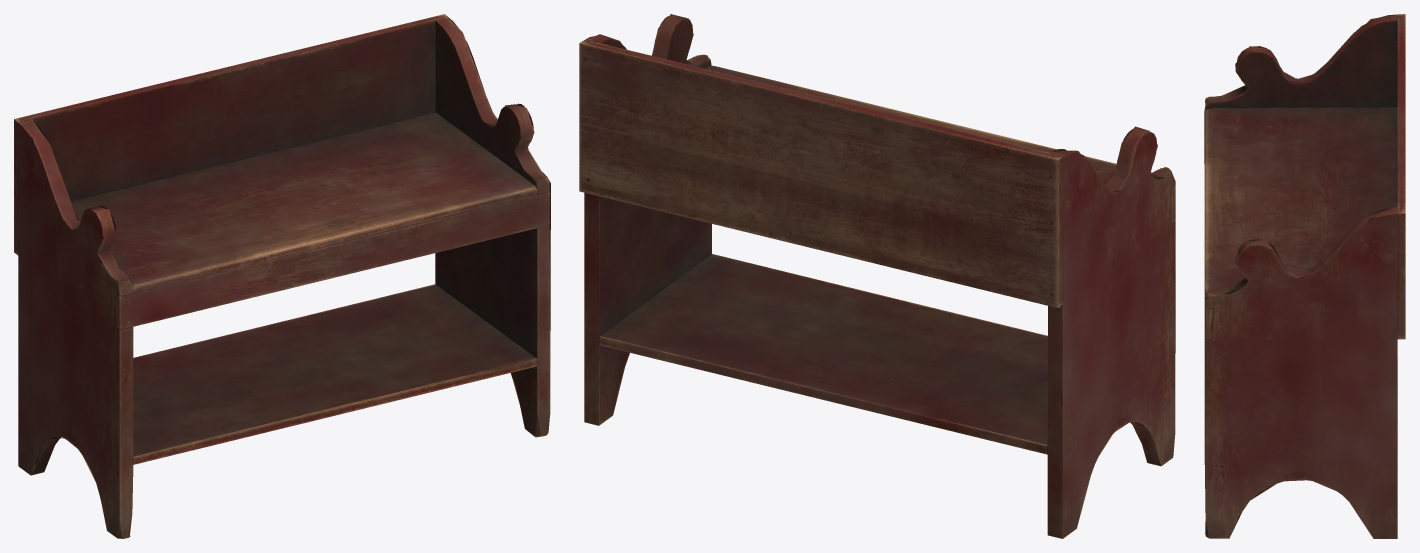
File: painted_wooden_bench.glb
3 renders of one model, left to right at view 1: azimuth 30°, elevation 25°; view 2: azimuth 150°, elevation 25°; view 3: azimuth 270°, elevation 25°, orthographic. The views are drawn at different scales.
Parts seen in each view (by area): view 1: painted_wooden_bench; view 2: painted_wooden_bench; view 3: painted_wooden_bench.
Boxes of the visible parts, <box> form: painted_wooden_bench: <box>14,14,550,538</box>; painted_wooden_bench: <box>579,14,1175,538</box>; painted_wooden_bench: <box>1204,14,1405,538</box>.
Bounding box in the file's own units: 1.17 × 0.8919 × 0.4977.
Materials: 1 (1 with a texture image).
